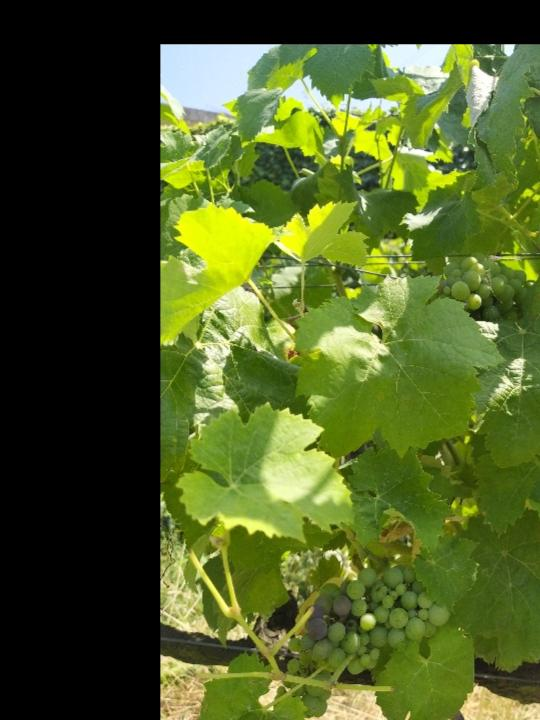grape: (278, 565, 452, 718)
